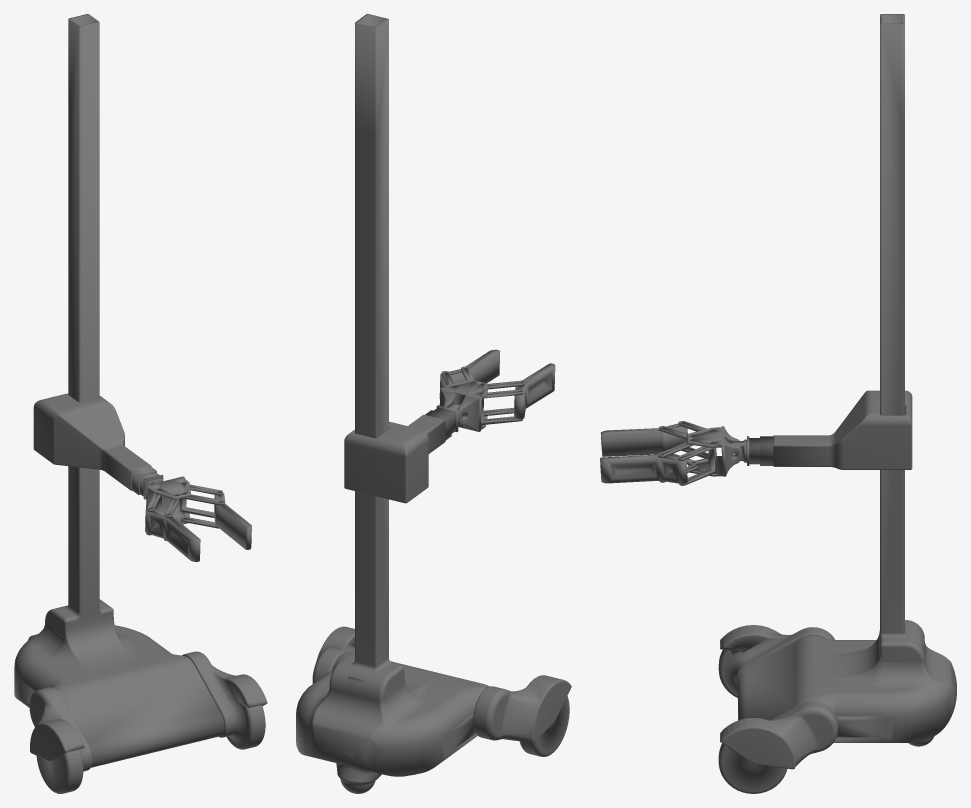
The model's file is independenceRoboticsRobot.glb.
3 views of the same model, side by side, from view 1: azimuth 30°, elevation 25°; view 2: azimuth 150°, elevation 25°; view 3: azimuth 270°, elevation 25° (orthographic). The views are drawn at different scales.
Parts seen in each view (by area): view 1: pretty_assembly - pretty_arm-1; view 2: pretty_assembly - pretty_arm-1; view 3: pretty_assembly - pretty_arm-1.
Boxes of the visible parts, bbox=[...] form: pretty_assembly - pretty_arm-1: bbox=[14, 14, 267, 793]; pretty_assembly - pretty_arm-1: bbox=[296, 14, 571, 793]; pretty_assembly - pretty_arm-1: bbox=[600, 14, 956, 793].
Bounding box in the file's own units: 1.03 × 3.4 × 1.52.
1 material, 1 textured.
